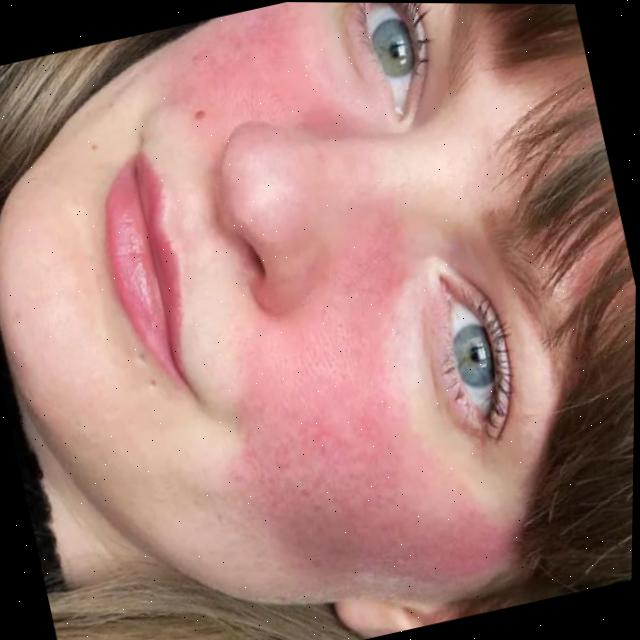Rosacea: (133, 1, 510, 631)
